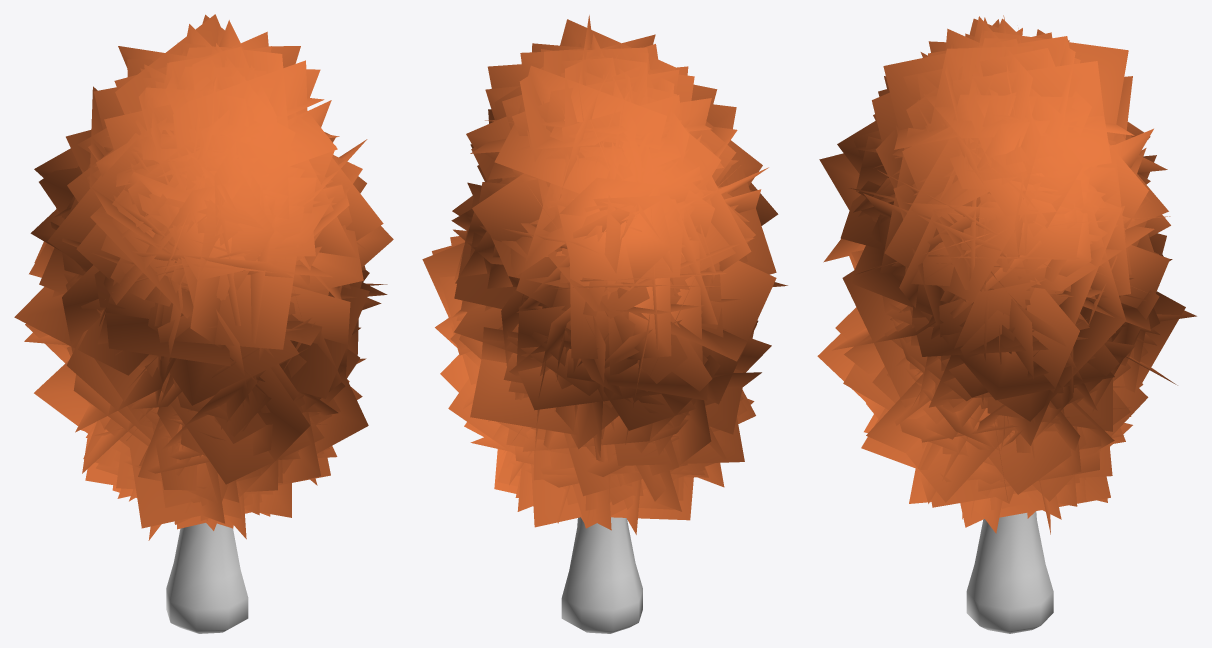
Rendered from SM_Tree_05.fbx.
3 views of the same model, side by side, from view 1: azimuth 30°, elevation 25°; view 2: azimuth 150°, elevation 25°; view 3: azimuth 270°, elevation 25° (orthographic). The views are drawn at different scales.
Visible parts, largest first — view 1: SM_Tree_05_LOD0; view 2: SM_Tree_05_LOD0; view 3: SM_Tree_05_LOD0.
Boxes of the visible parts, x1,y1,x2,y2 form: SM_Tree_05_LOD0: [14, 14, 393, 633]; SM_Tree_05_LOD0: [422, 15, 787, 633]; SM_Tree_05_LOD0: [817, 15, 1196, 633].
Bounding box in the file's own units: 233 × 381 × 221.
